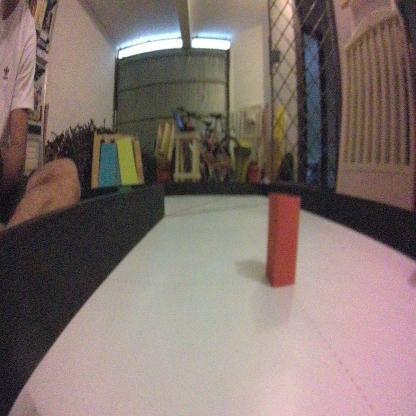red: (262, 192, 301, 286)
